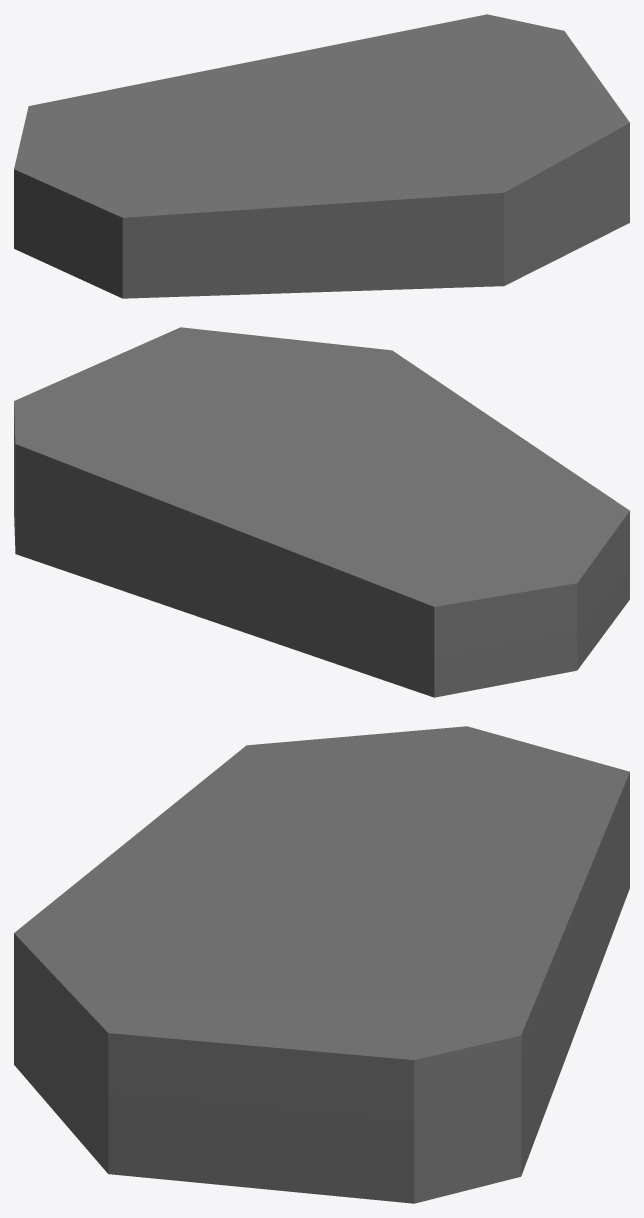
File: stone flat 2.fbx
3 renders of one model, top to bottom at view 1: azimuth 30°, elevation 25°; view 2: azimuth 150°, elevation 25°; view 3: azimuth 270°, elevation 25°, orthographic. The views are drawn at different scales.
Parts seen in each view (by area): view 1: stone flat 2; view 2: stone flat 2; view 3: stone flat 2.
Part boxes in pixels (left/top/right/bottom): stone flat 2: left=14, top=14, right=629, bottom=298; stone flat 2: left=14, top=327, right=629, bottom=697; stone flat 2: left=14, top=726, right=629, bottom=1203.
Size of the model in its own units: 62.9 by 11.53 by 44.81.
